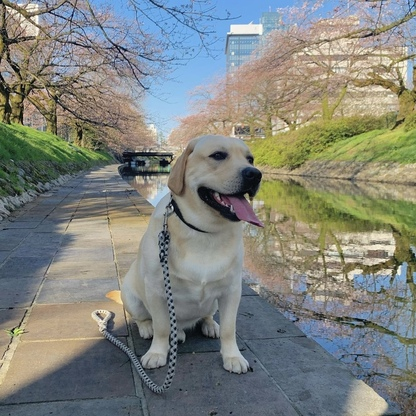labrado: (105, 130, 264, 383)
